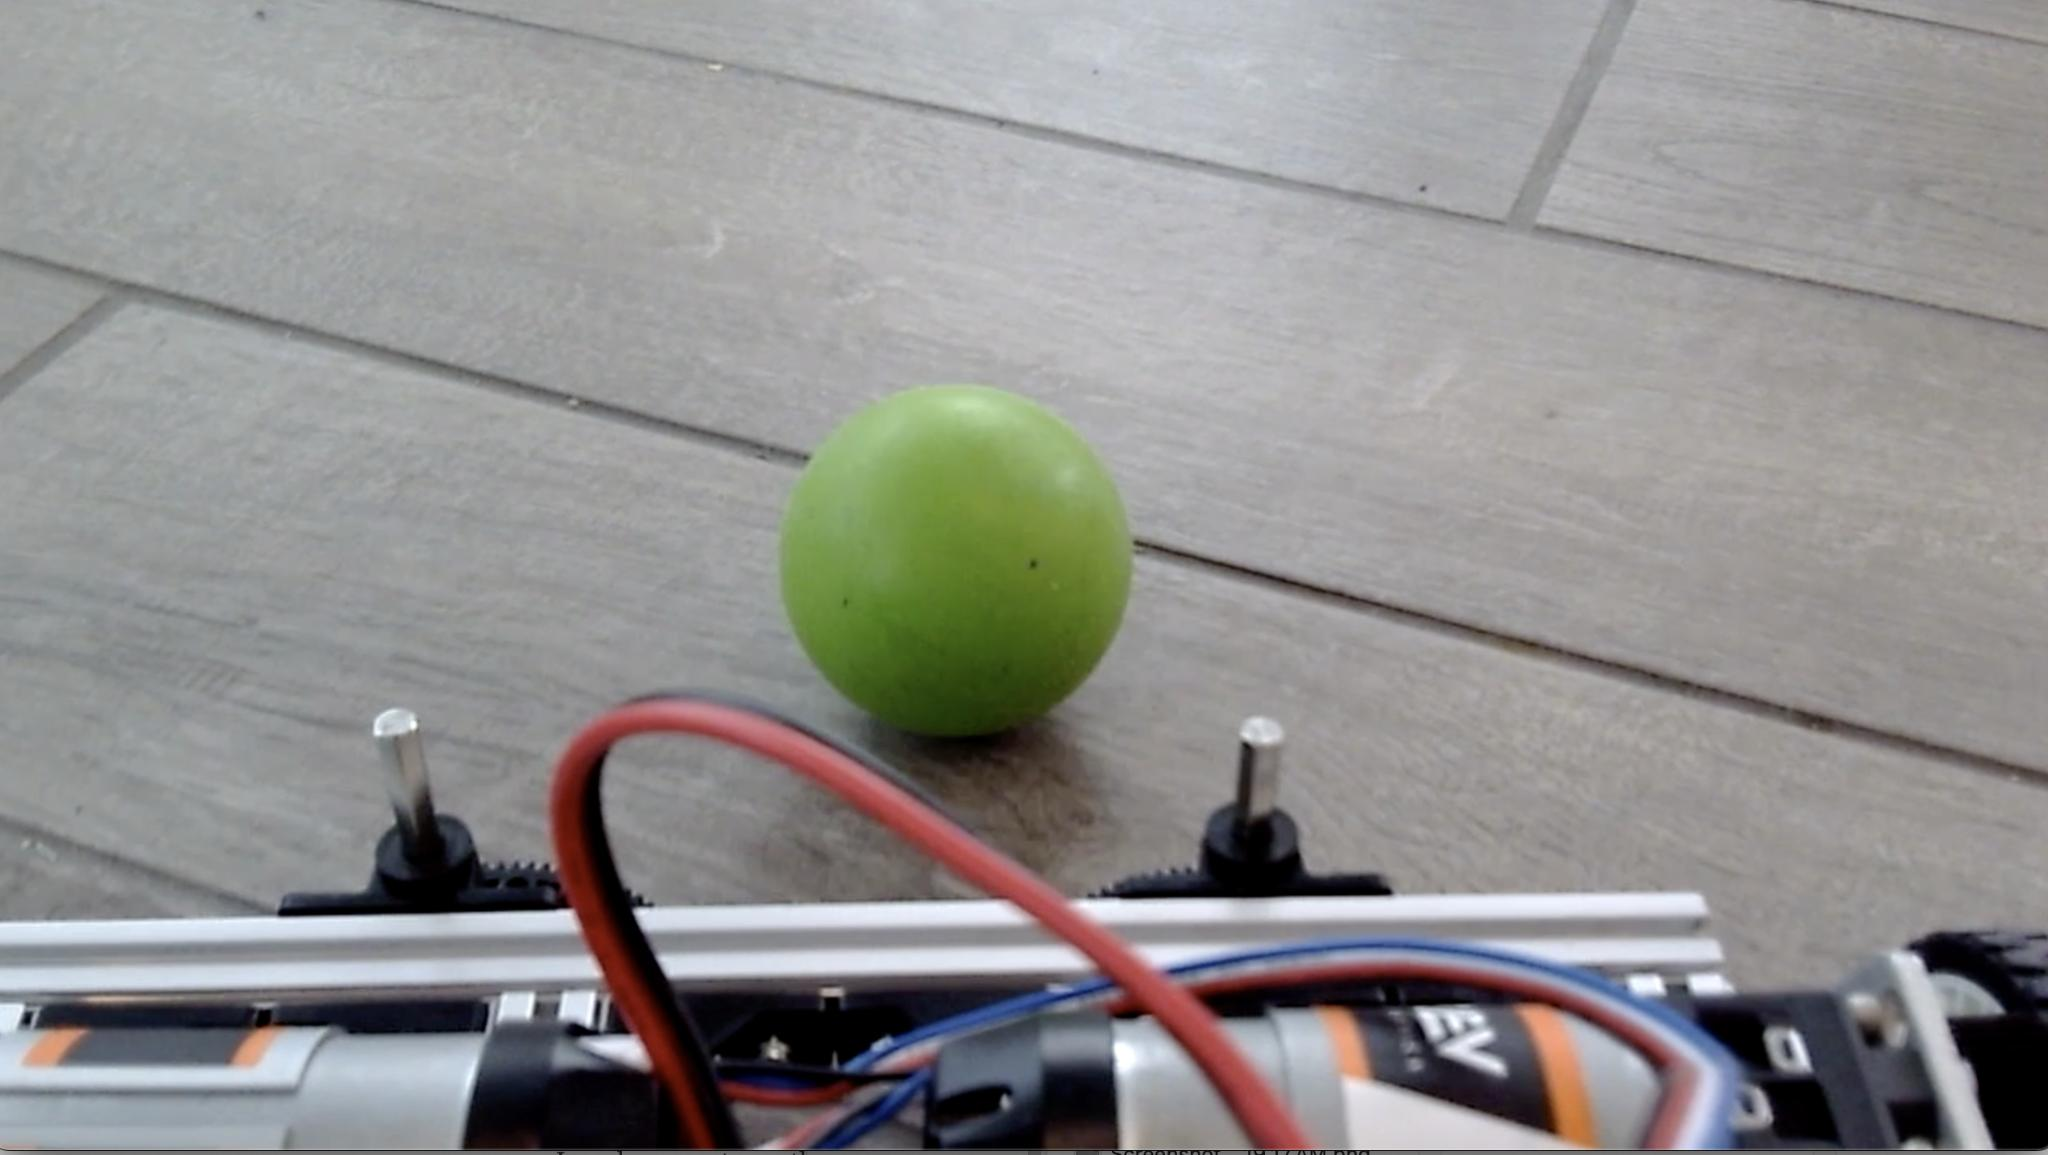greenball: (776, 379, 1136, 743)
